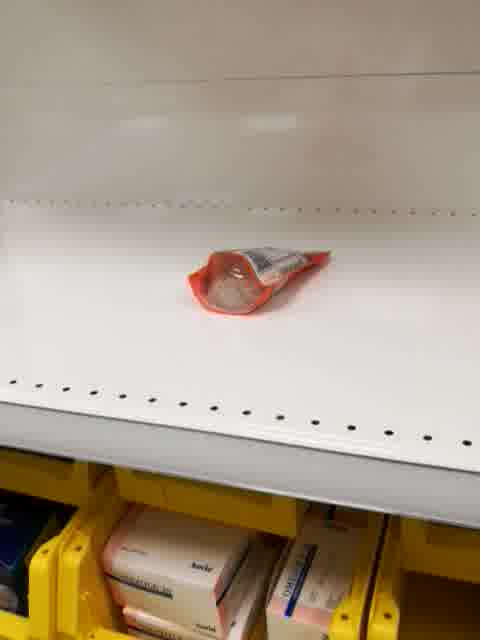whitechia: (185, 245, 330, 317)
